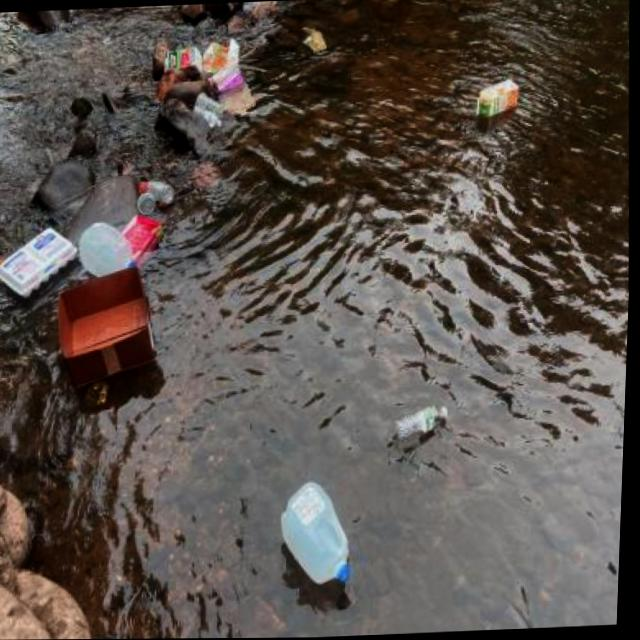Cardboard: (46, 255, 170, 392), (161, 36, 258, 120), (0, 221, 84, 301), (467, 71, 526, 125)
Paper: (298, 22, 328, 56)
Plastic: (268, 475, 366, 595), (75, 212, 166, 280), (389, 397, 453, 448), (134, 176, 177, 218)
